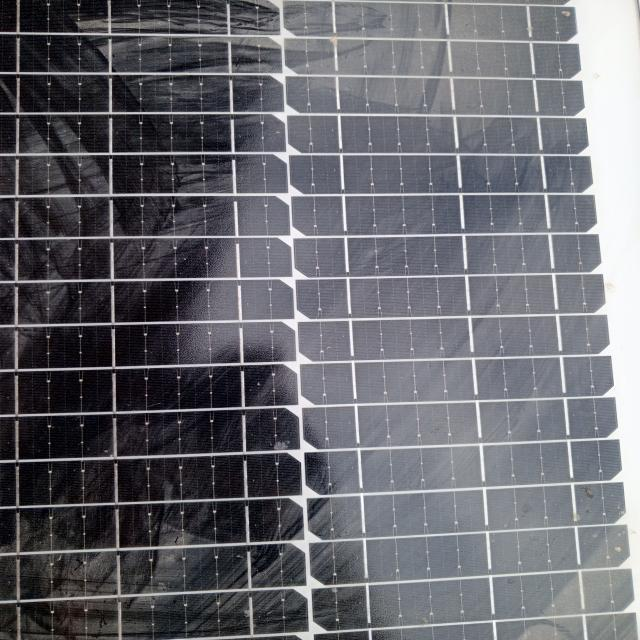Surface Contaminant: (8, 0, 608, 639)
